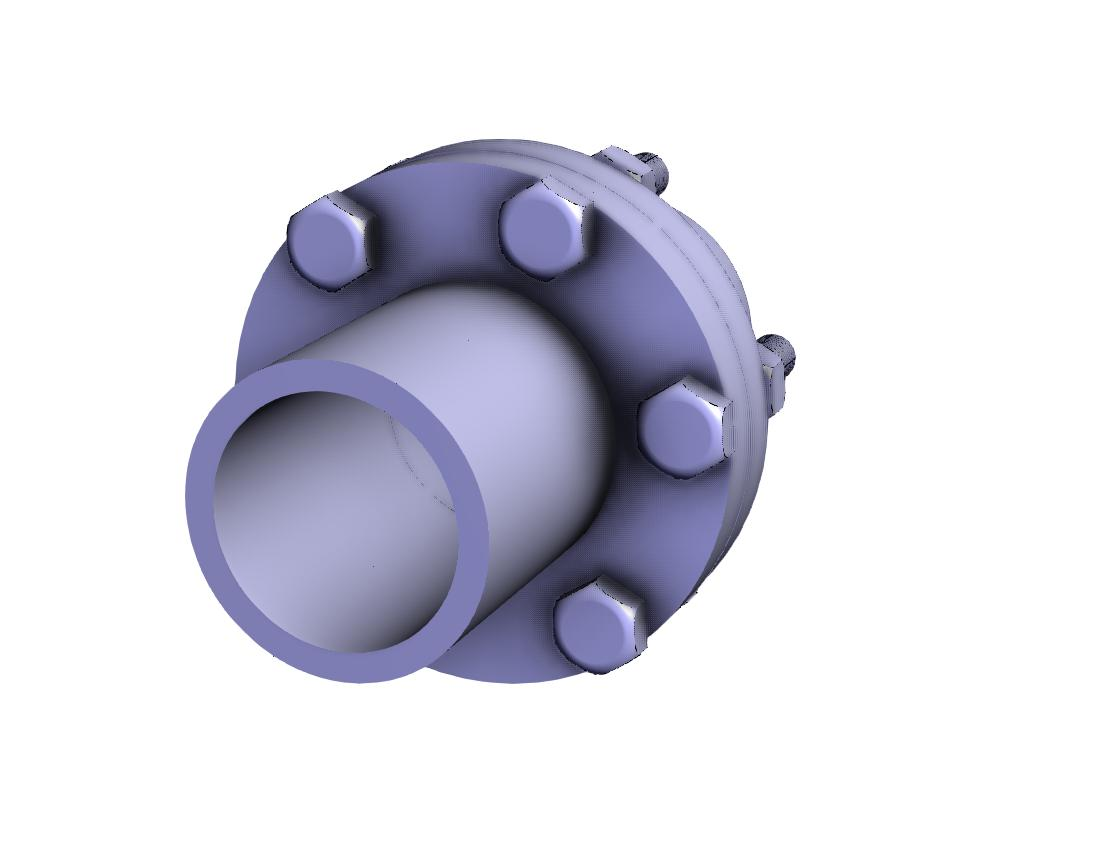bolt_a: (494, 175, 597, 283), (634, 376, 732, 484), (285, 190, 381, 295), (553, 573, 648, 676)
